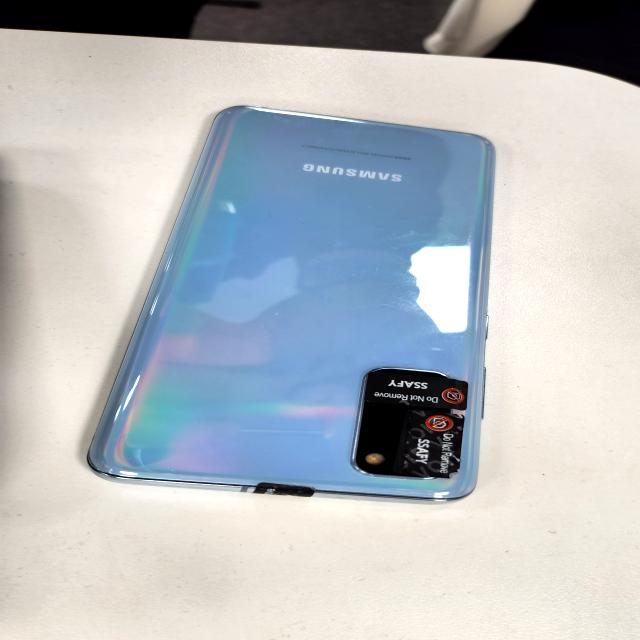phone: (88, 105, 524, 500)
removed_sticker: (406, 411, 464, 476)
sticker: (366, 372, 474, 410)
